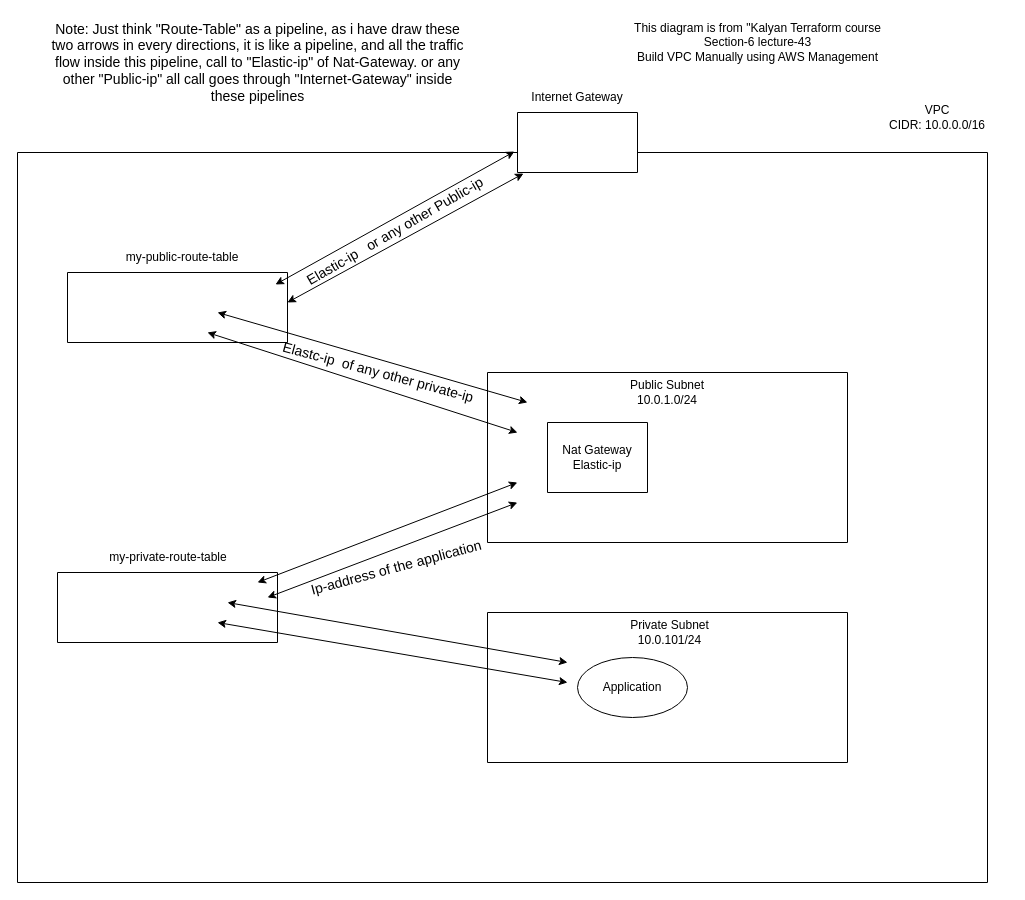
Some shapes in this 1025 by 900 pixel diagram are drawn without their labels. Here are the shapes that lost their labels. From the top down, the box of each, then its label:
(66, 272, 288, 342): 0.0.0.0/0 - internet-gateway 10.0.0.0/16 - local
(56, 572, 278, 642): 0.0.0.0/0 - nat-gateway 10.0.0.0/16 - local
